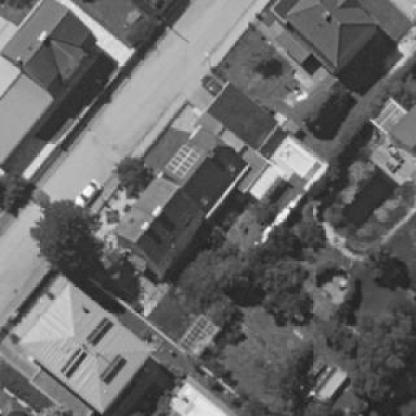solar-pv-panel: (176, 313, 219, 359), (165, 144, 200, 179), (60, 349, 82, 374), (86, 316, 108, 341), (100, 355, 122, 380)
